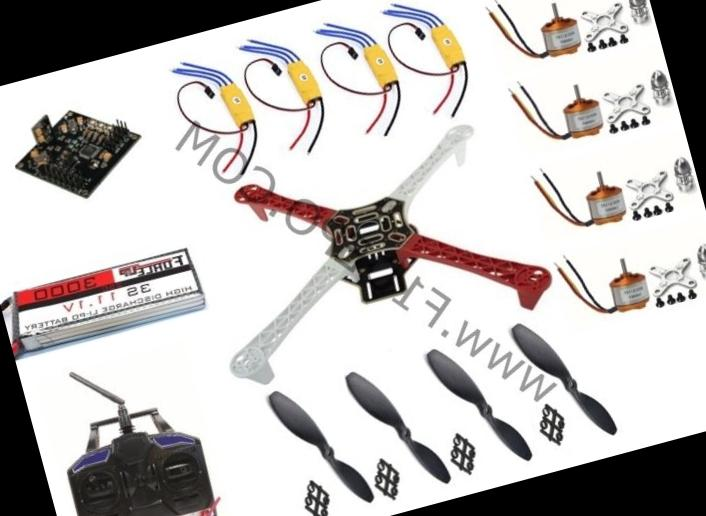drone: (158, 100, 566, 412)
